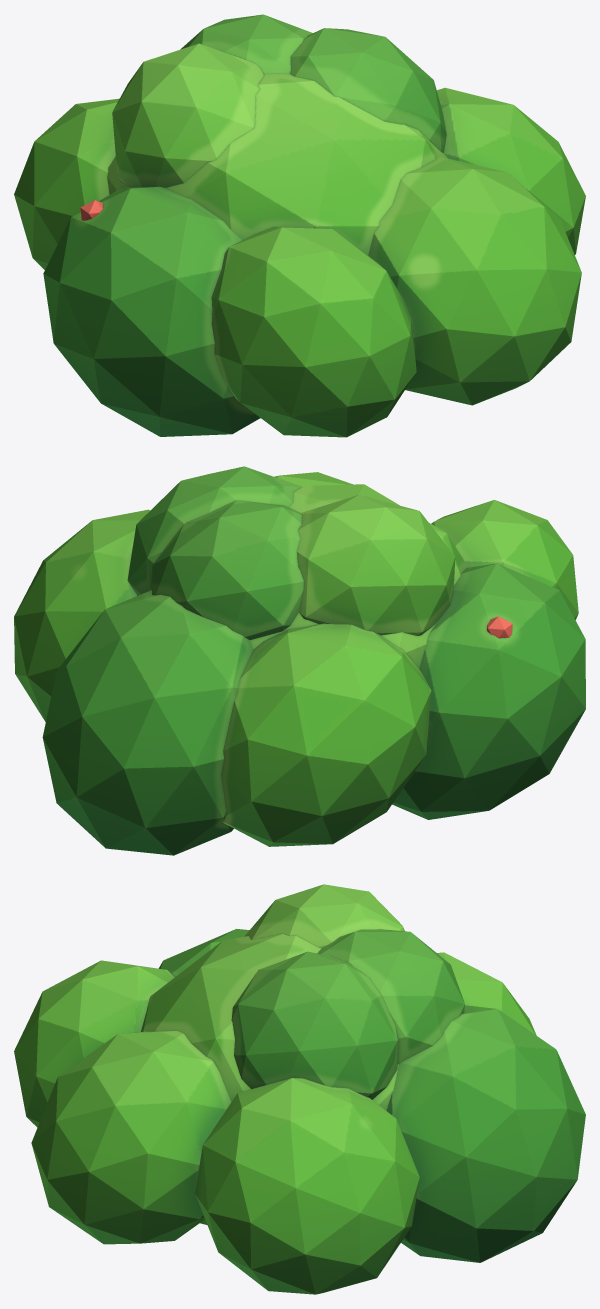
File: prop_bush.glb
The picture shows the model from 3 angles, top to bottom: view 1: azimuth 30°, elevation 25°; view 2: azimuth 150°, elevation 25°; view 3: azimuth 270°, elevation 25°; orthographic projection. The views are drawn at different scales.
Visible parts, largest first — view 1: prop; view 2: prop; view 3: prop.
Part boxes in pixels (left/top/right/bottom): prop: left=14, top=14, right=585, bottom=437; prop: left=14, top=466, right=585, bottom=855; prop: left=14, top=884, right=585, bottom=1294.
Size of the model in its own units: 5.94 by 3.51 by 6.11.
Materials: 1 (1 with a texture image).
